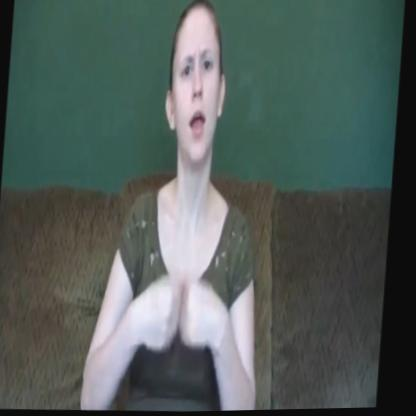HowAreYou: (84, 0, 285, 414)
